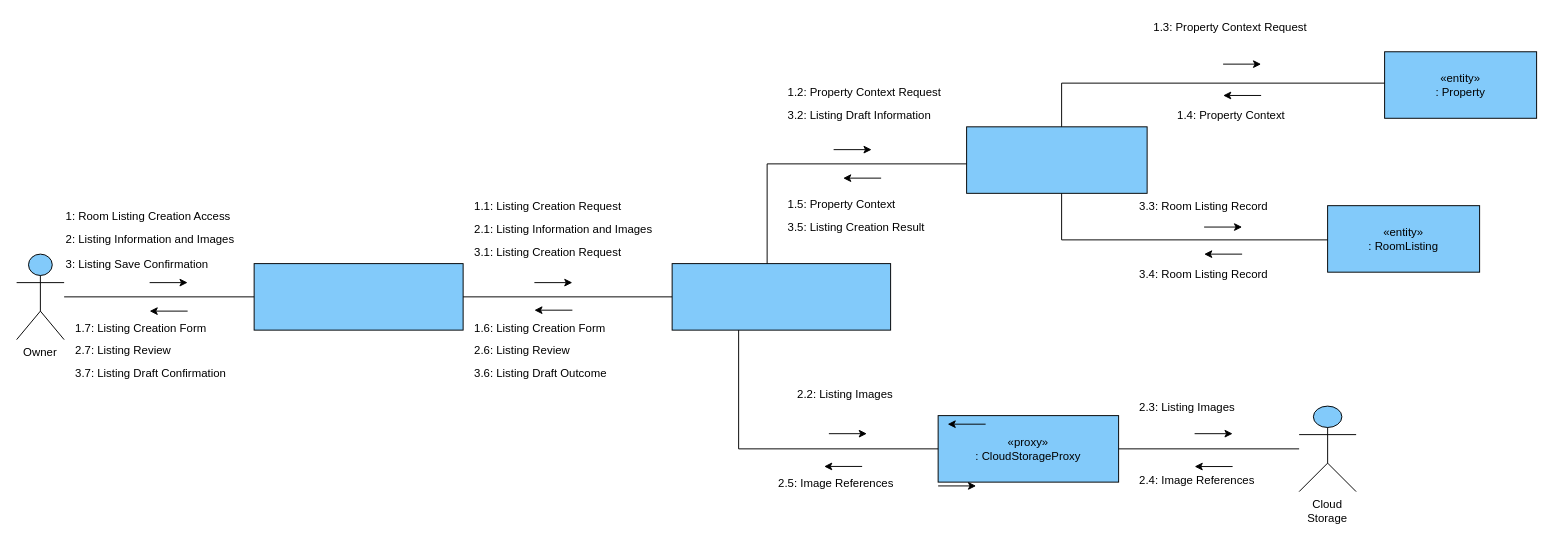
The diagram is 1553 pixels wide and 542 high, and some of its shapes have lost their labels. The shapes that lost their labels are listed below. From the top down, each one's centre as x and y in pixels, then its label:
[1056,159]: «business logic» : RoomListingRules
[358,296]: «user interaction» : RoomListingCreationUI
[781,296]: «coordinator» : ListingManagementCoordinator
